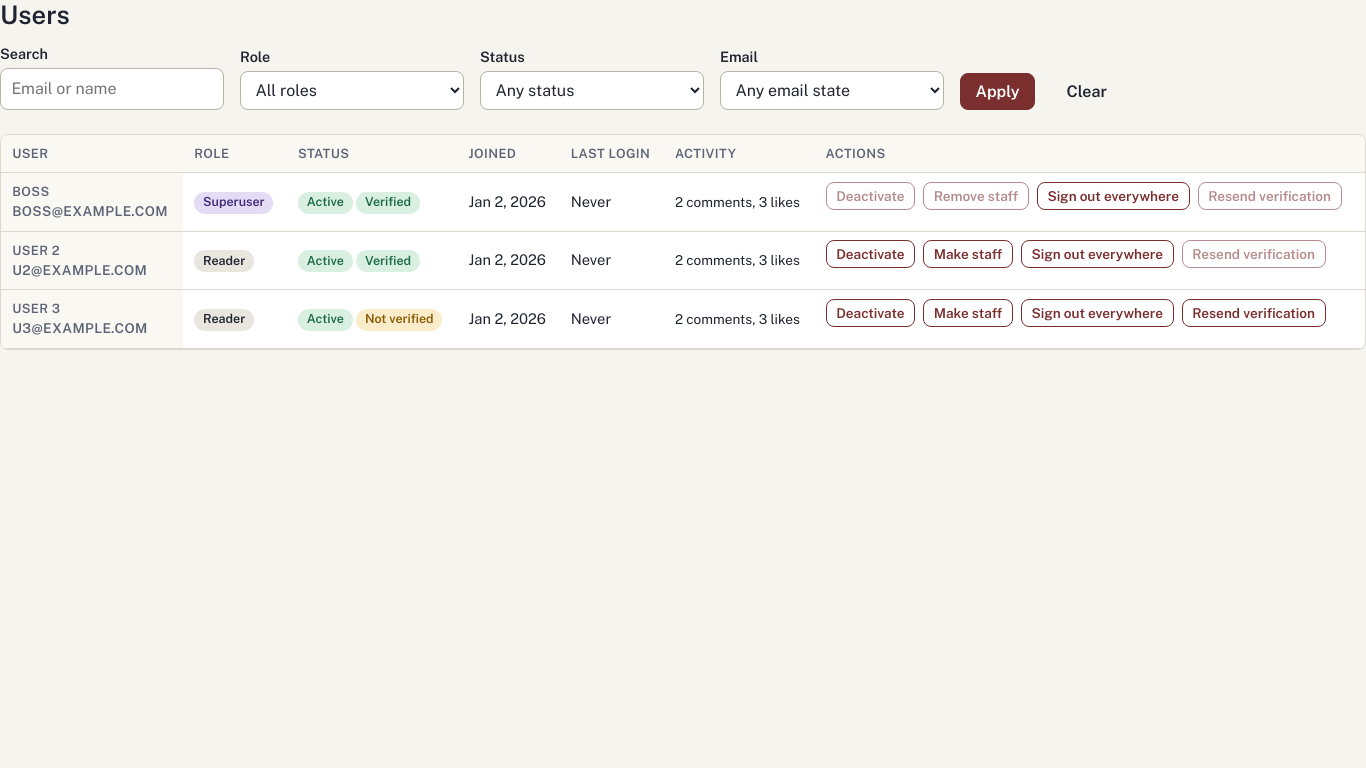
Scenario: UsersPage › asks before deactivating, then does it
Click the button "Deactivate" in the row of "User 2" at (870, 254), box [826,240,915,268]
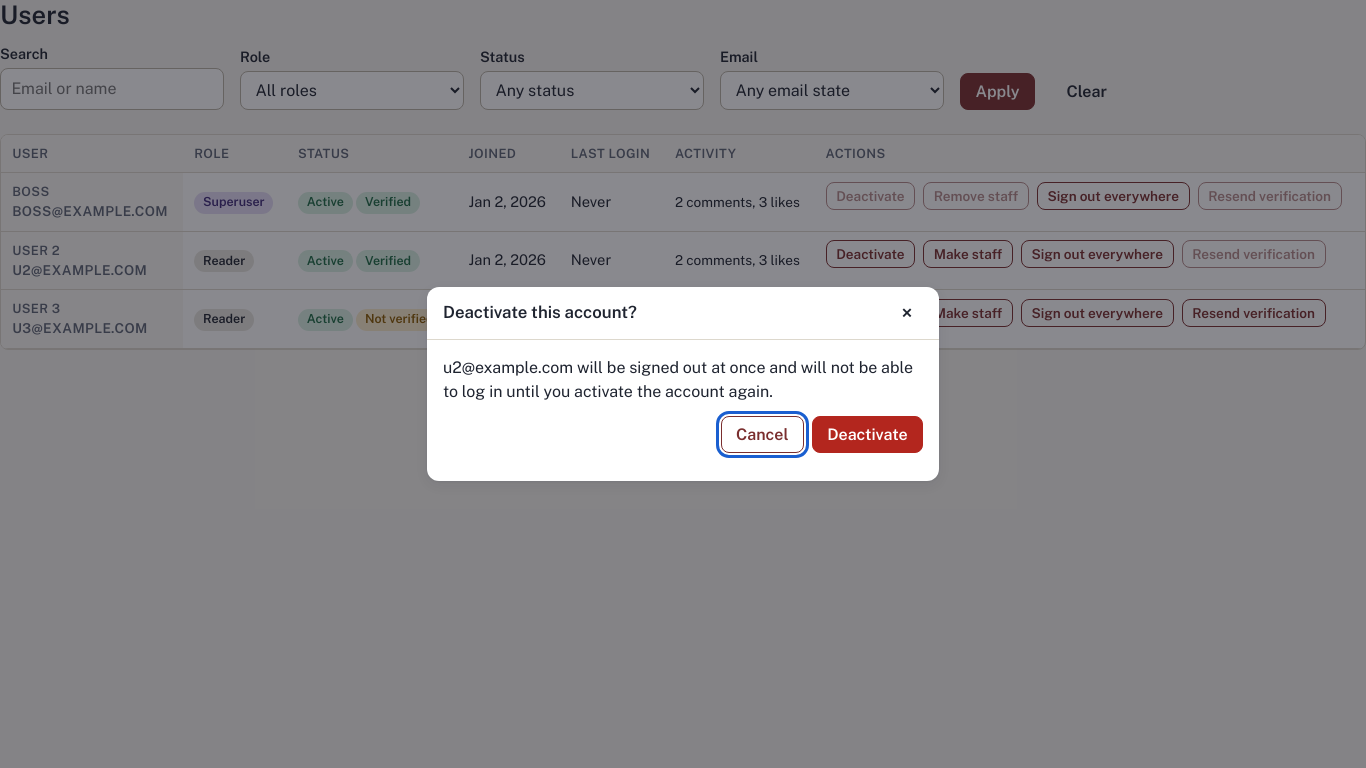
Click the button "Deactivate" at (867, 434), box [812,416,923,453]
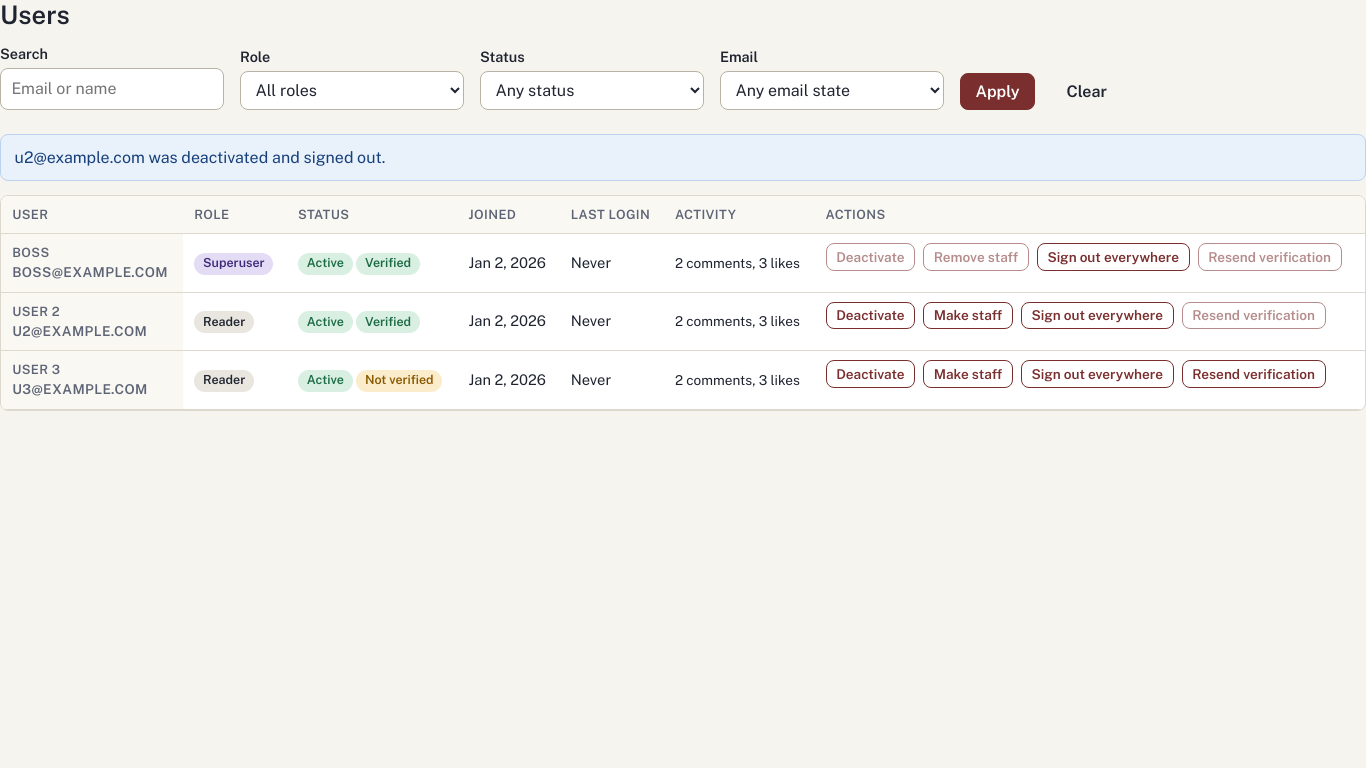
Result: the text "u2@example.com was deactivated and signed out." is shown at [0,134,1365,181]
